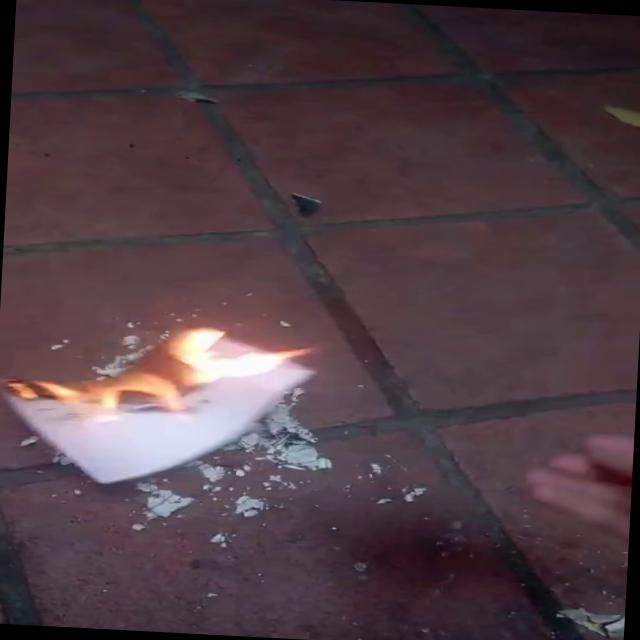Fire_Dangerous: (5, 316, 325, 428)
